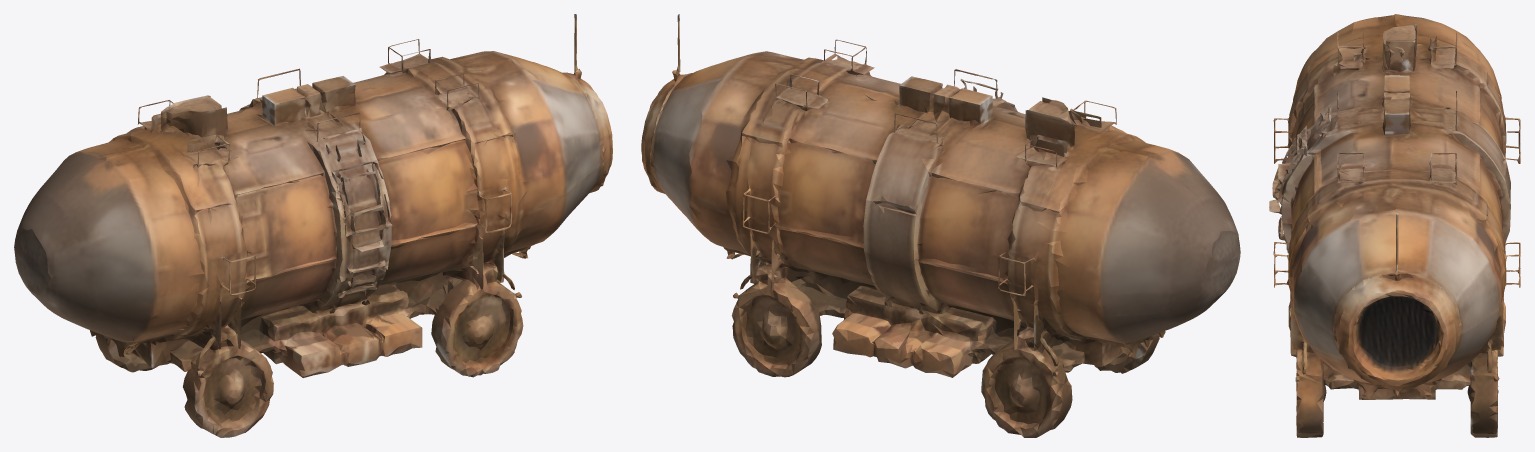
Rendered from golem_hull.glb.
3 views of the same model, side by side, from view 1: azimuth 30°, elevation 25°; view 2: azimuth 150°, elevation 25°; view 3: azimuth 270°, elevation 25° (orthographic).
Visible parts, largest first — view 1: golem_hull; view 2: golem_hull; view 3: golem_hull.
Boxes of the visible parts, box(x1,y1,x2,y2) form: golem_hull: box(14, 14, 612, 437); golem_hull: box(641, 14, 1240, 437); golem_hull: box(1269, 14, 1520, 437).
Bounding box in the file's own units: 1.9 × 0.9408 × 0.7424.
Materials: 1 (1 with a texture image).
